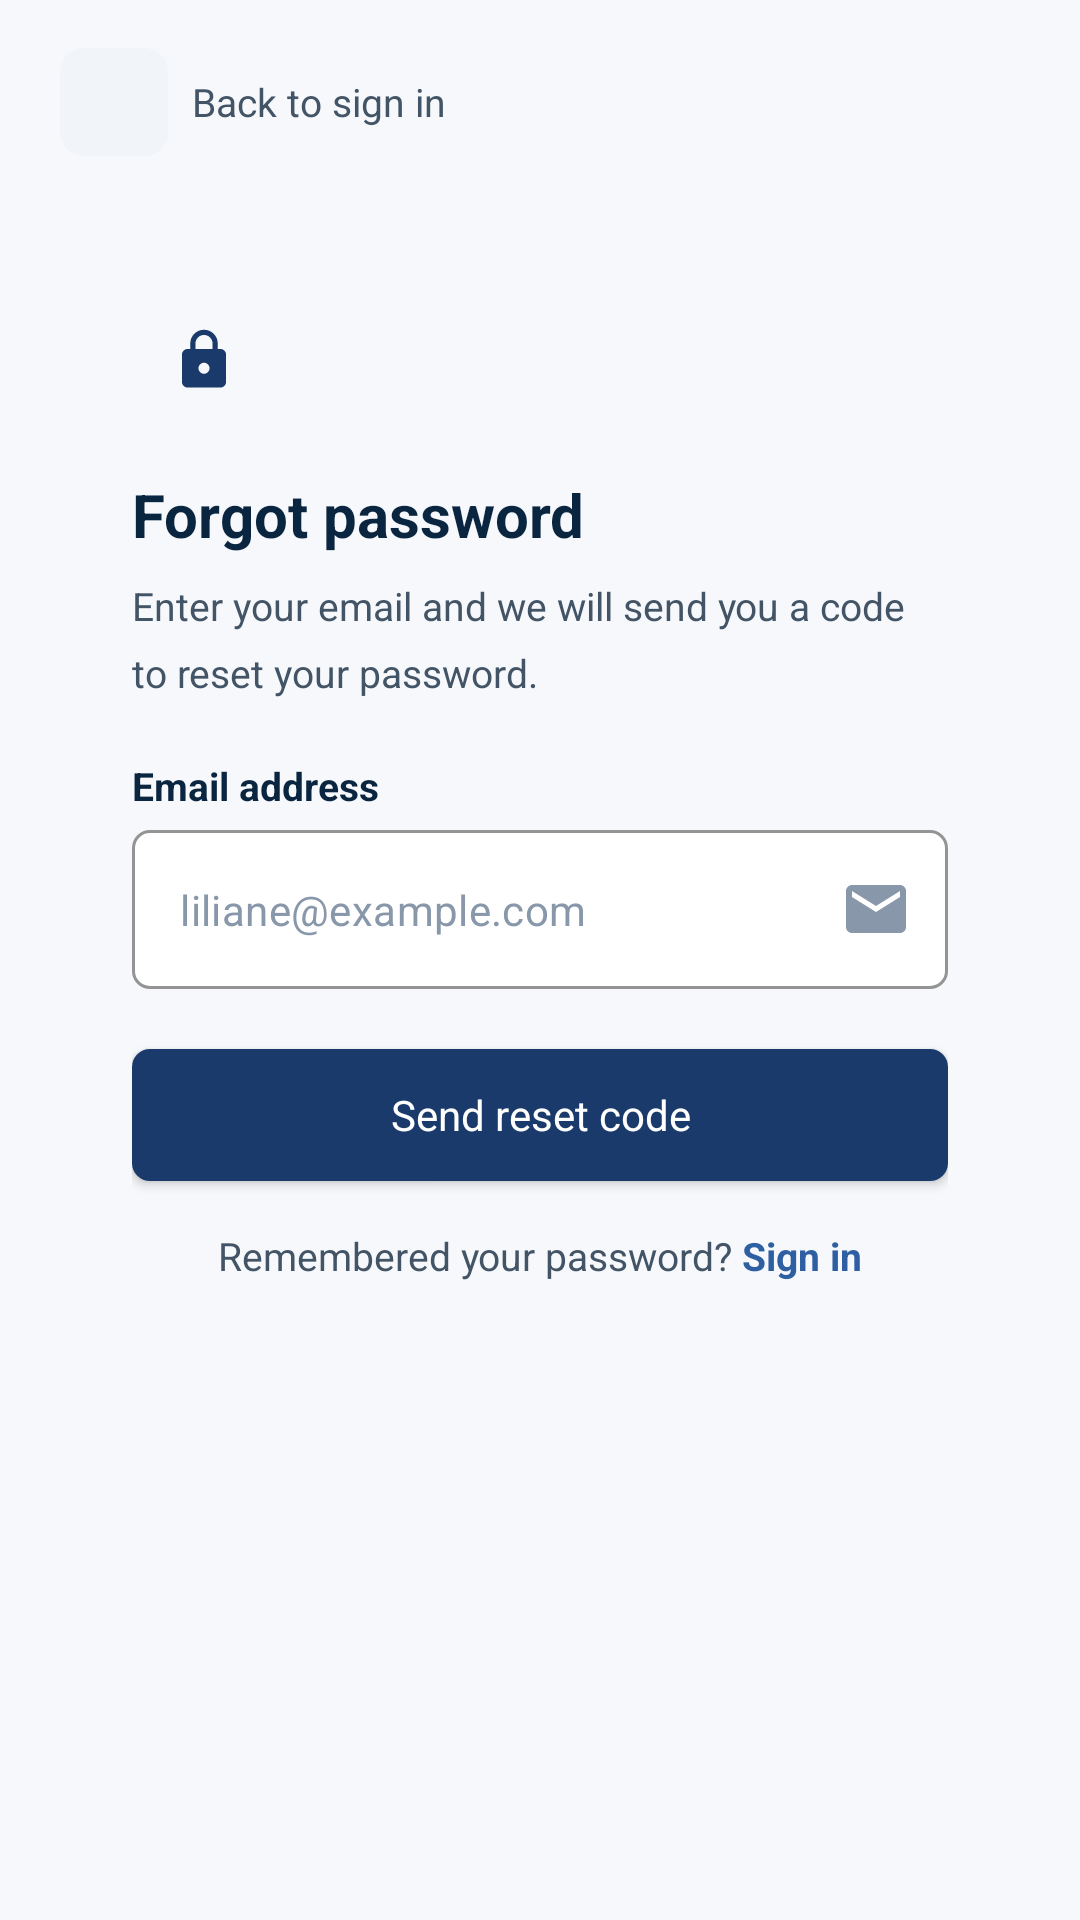

Icons on this 1080×1920 Android screen, each with the point to tap as point (x, y):
lock: point (204, 358)
